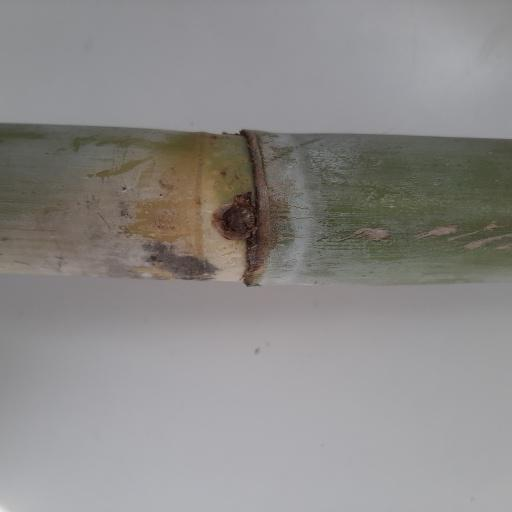Bud: (221, 206, 257, 233)
